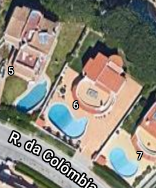pool: (51, 105, 83, 135), (12, 85, 49, 108), (113, 148, 137, 174)
